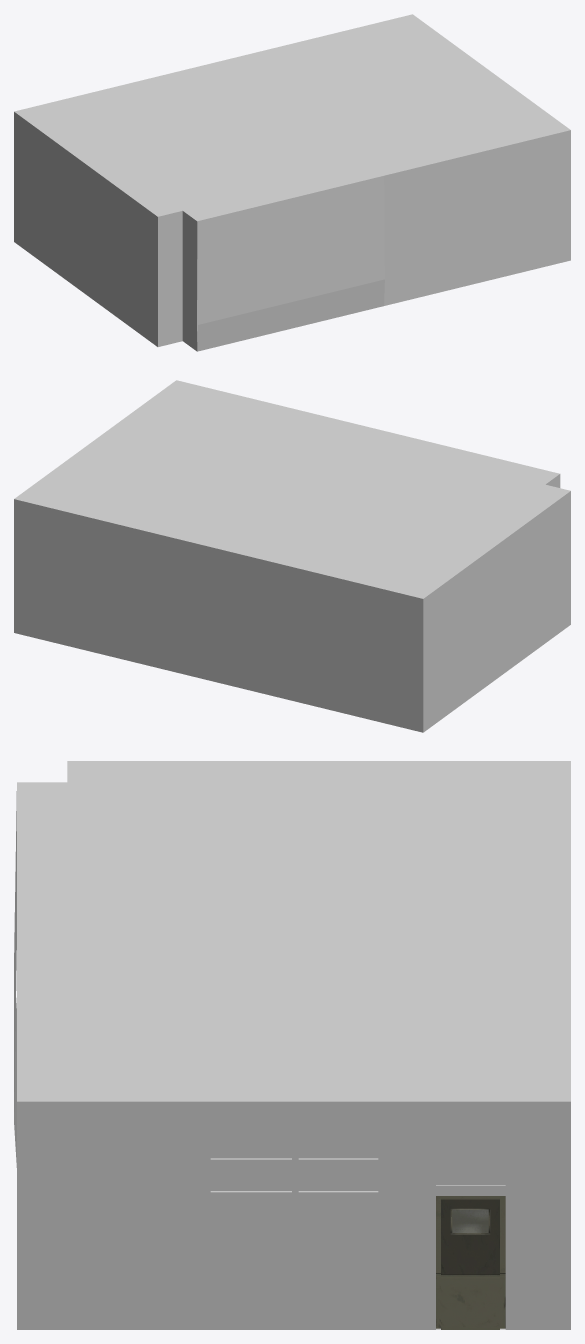
Rendered from Room3.fbx.
The picture shows the model from 3 angles, top to bottom: view 1: azimuth 30°, elevation 25°; view 2: azimuth 150°, elevation 25°; view 3: azimuth 270°, elevation 25°; orthographic projection. The views are drawn at different scales.
Visible parts, largest first — view 1: Room; view 2: Room; view 3: Room.
Boxes of the visible parts, <box> form: Room: <box>14,14,570,351</box>; Room: <box>14,380,570,732</box>; Room: <box>14,761,570,1329</box>.
Size of the model in its own units: 1606 by 500 by 1106.
